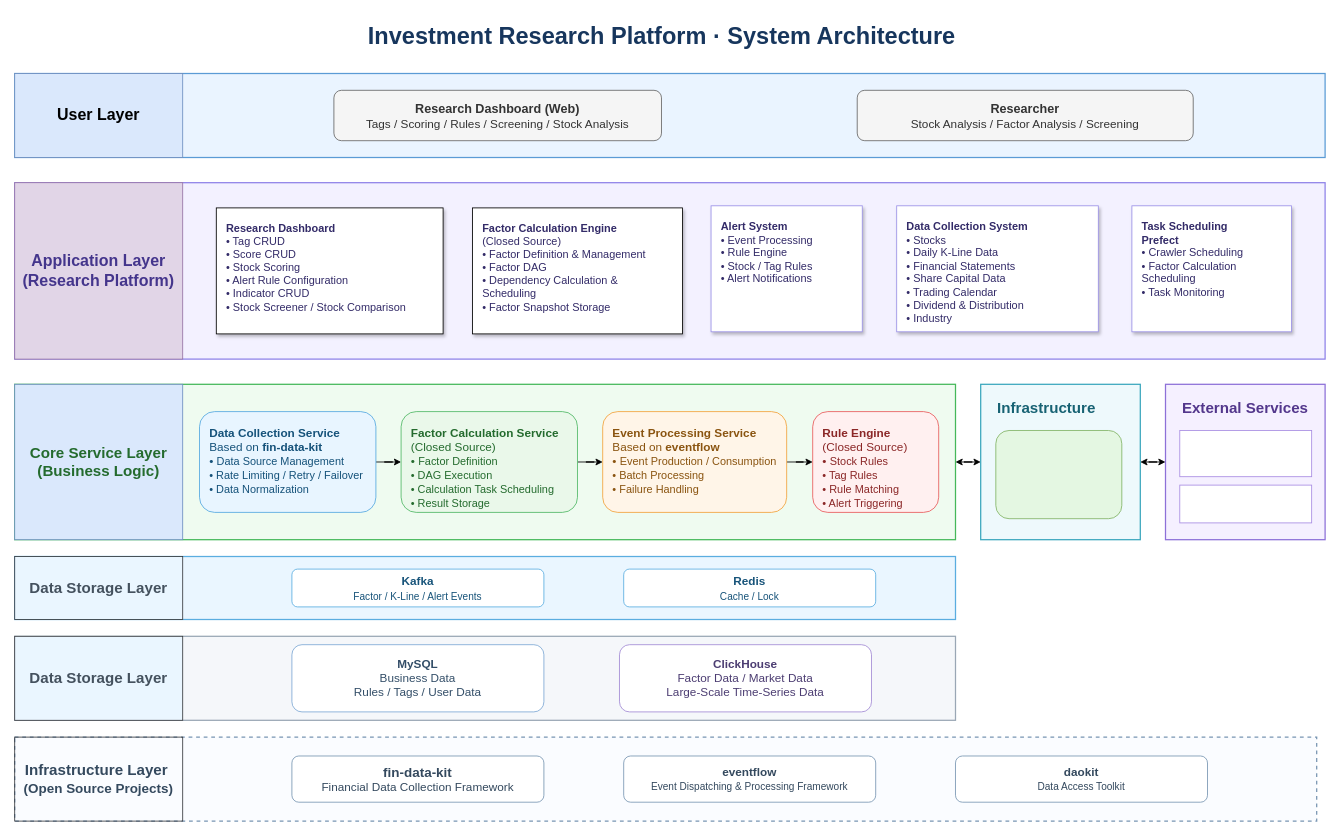
Image size: 1341x836. Some labels were removed from this diagram. Here are the shapes that lost their labels. From the top down, the centre of each, then its label:
At [1245,453]: "Financial Data Sources Xueqiu / Eastmoney / Stock Exchanges, etc.".
At [1058,474]: "daokit MySQL / ClickHouse Asynchronous DAO Data Access Toolkit".
At [1245,503]: "Notification Services Email".
